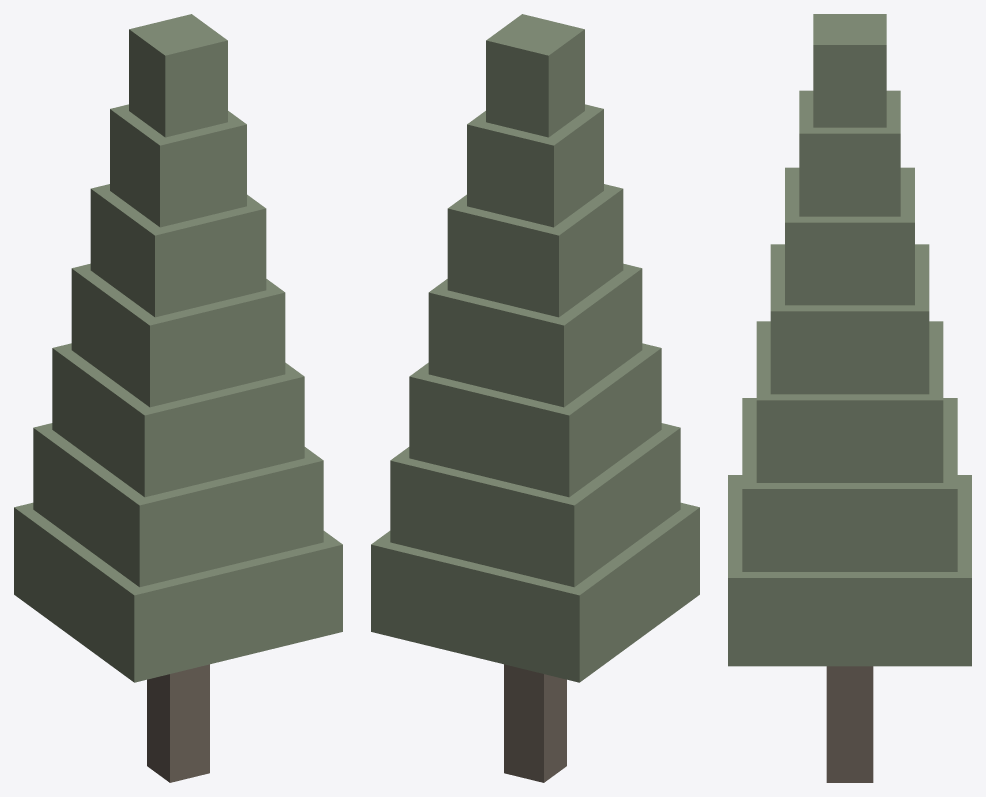
File: tree_cypress.glb
3 views of the same model, side by side, from view 1: azimuth 30°, elevation 25°; view 2: azimuth 150°, elevation 25°; view 3: azimuth 270°, elevation 25° (orthographic).
Visible parts, largest first — view 1: body; view 2: body; view 3: body.
Part boxes in pixels (<box>): body: <box>14,14,342,782</box>; body: <box>371,14,699,782</box>; body: <box>728,14,971,782</box>.
Bounding box in the file's own units: 1.2 × 4.04 × 1.2.
